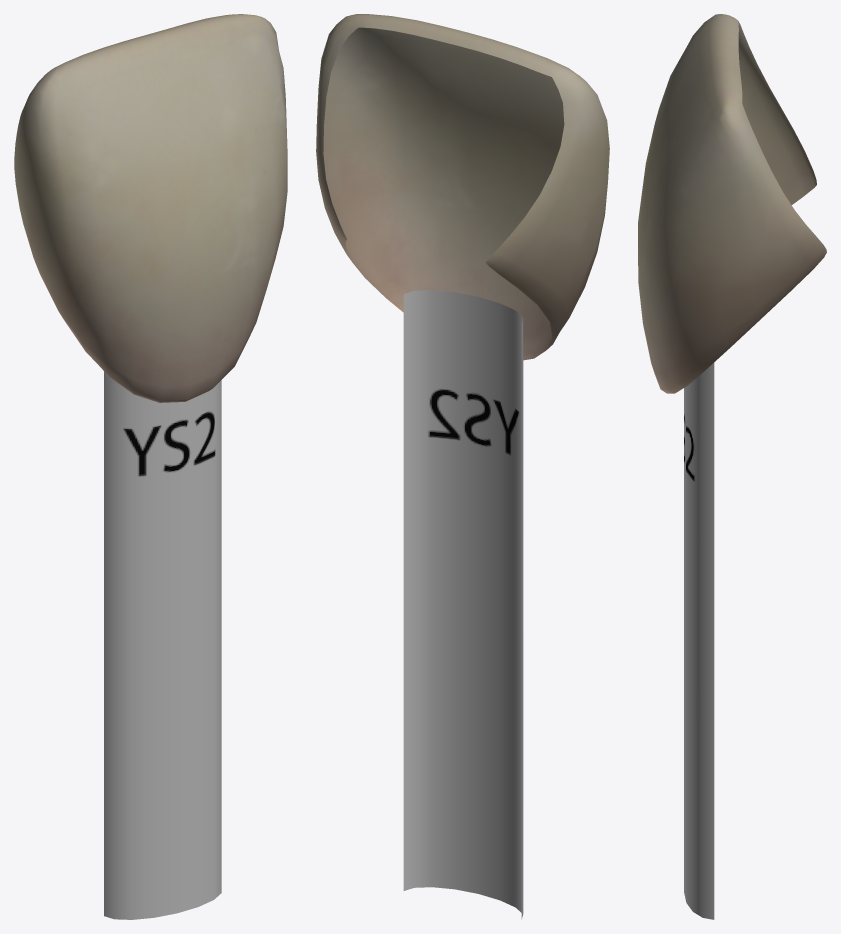
3 renders of one model, left to right at view 1: azimuth 30°, elevation 25°; view 2: azimuth 150°, elevation 25°; view 3: azimuth 270°, elevation 25°, orthographic. The views are drawn at different scales.
Parts seen in each view (by area): view 1: Tab; view 2: Tab; view 3: Tab.
Part boxes in pixels (left/top/right/bottom): Tab: left=14, top=14, right=287, bottom=919; Tab: left=316, top=14, right=609, bottom=919; Tab: left=638, top=14, right=826, bottom=919.
Size of the model in its own units: 0.00866 by 0.0274 by 0.00556.
1 material, 1 textured.
